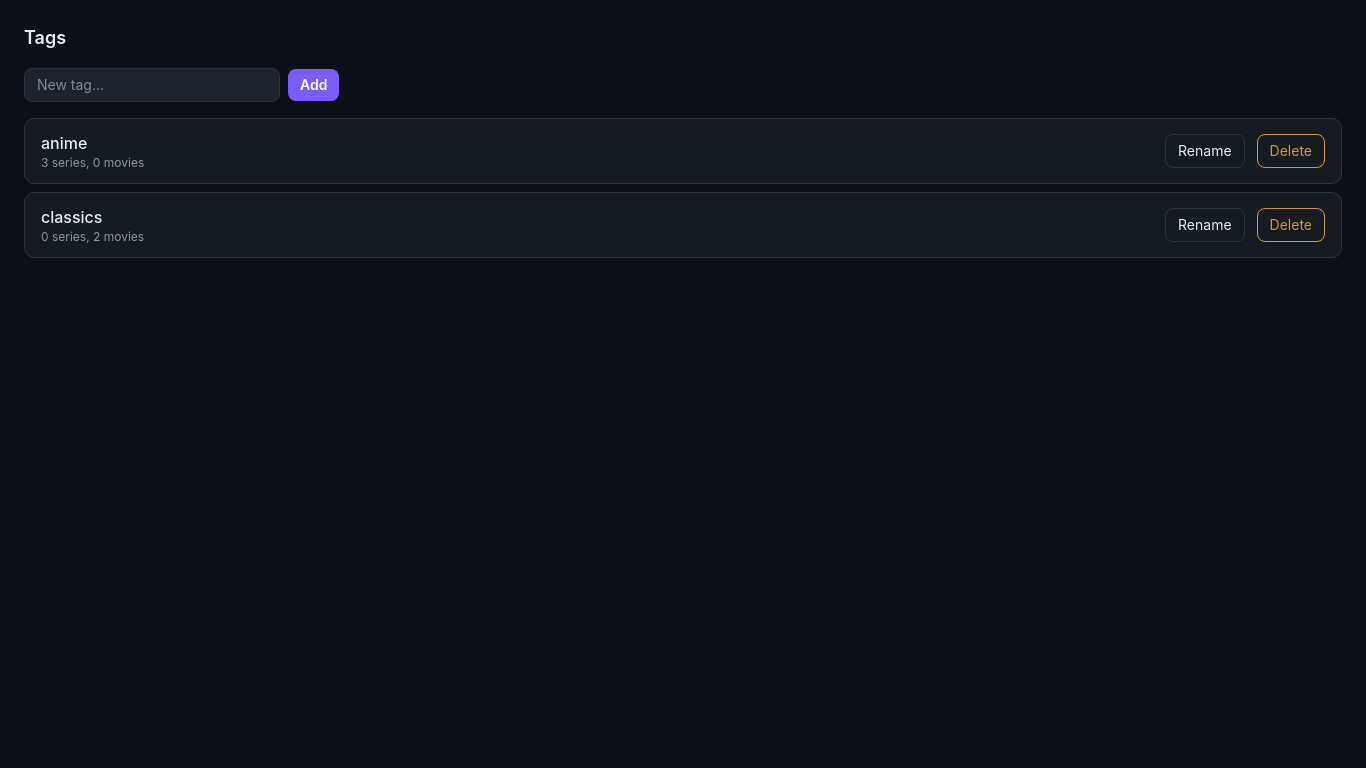
Test: TagsSection › shows the server's in-use message verbatim on a 409 delete
Click the button "Delete" in the row of "anime" at (1291, 151), box [1257,134,1325,168]
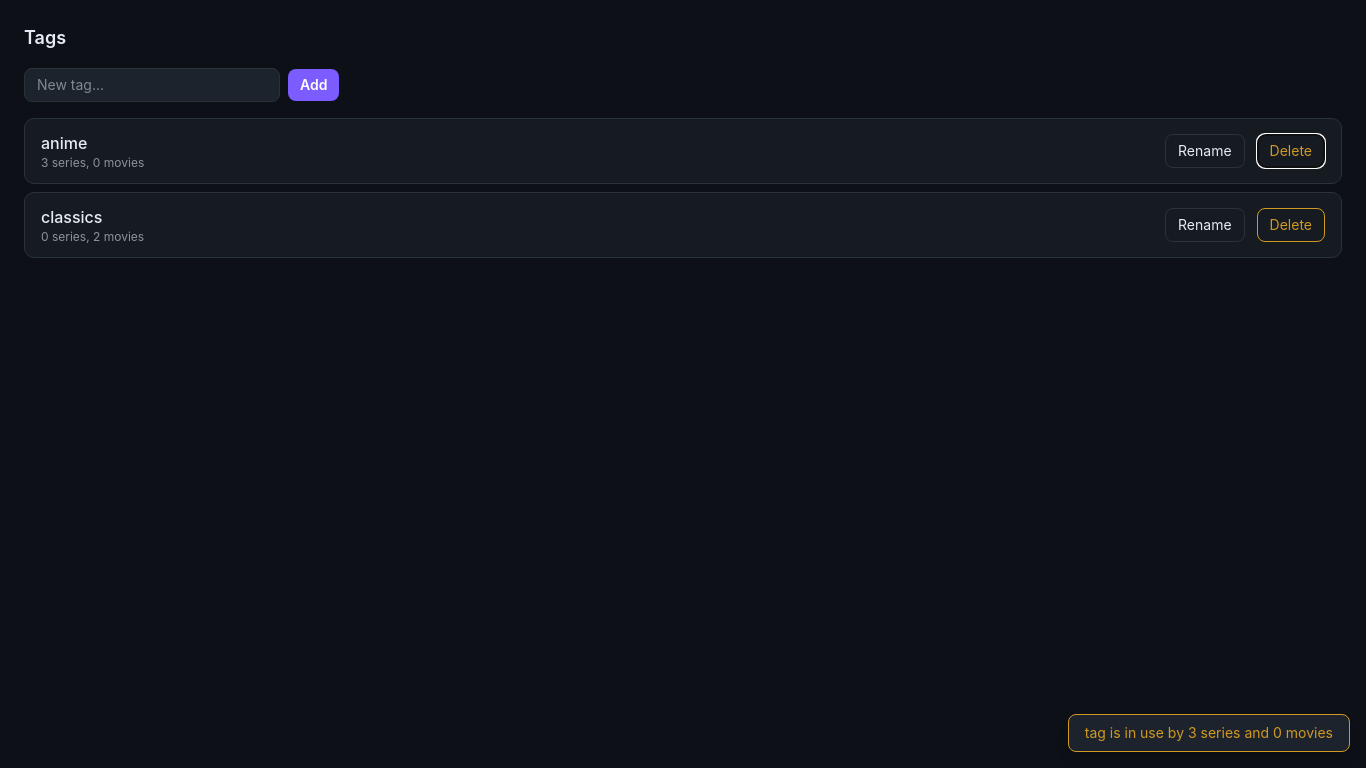
Result: the text "tag is in use by 3 series and 0 movies" is shown at [1068,714,1350,752]
